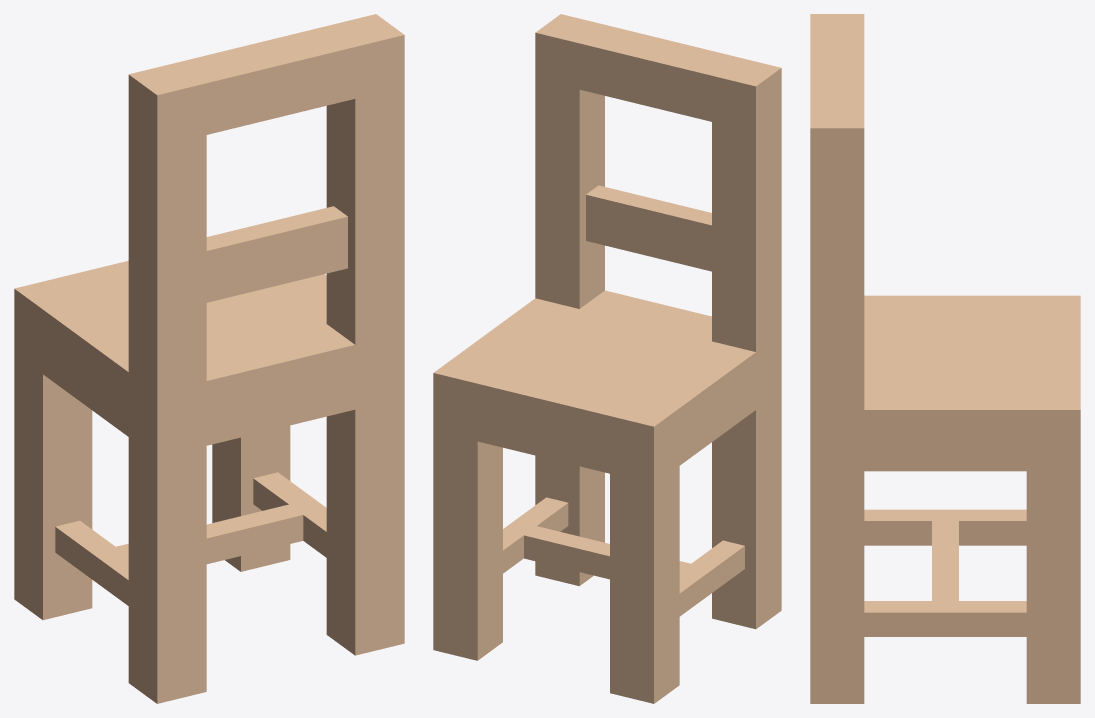
File: chair.gltf
The picture shows the model from 3 angles, left to right: view 1: azimuth 30°, elevation 25°; view 2: azimuth 150°, elevation 25°; view 3: azimuth 270°, elevation 25°; orthographic projection. The views are drawn at different scales.
Parts seen in each view (by area): view 1: chair; view 2: chair; view 3: chair.
Part boxes in pixels (bbox=[...]): chair: bbox=[14, 14, 404, 703]; chair: bbox=[433, 14, 781, 703]; chair: bbox=[810, 14, 1080, 703].
Size of the model in its own units: 2 by 4.7 by 2.
